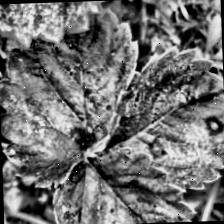Leaf Spot: (0, 5, 143, 190), (89, 42, 224, 196), (49, 145, 203, 224)
